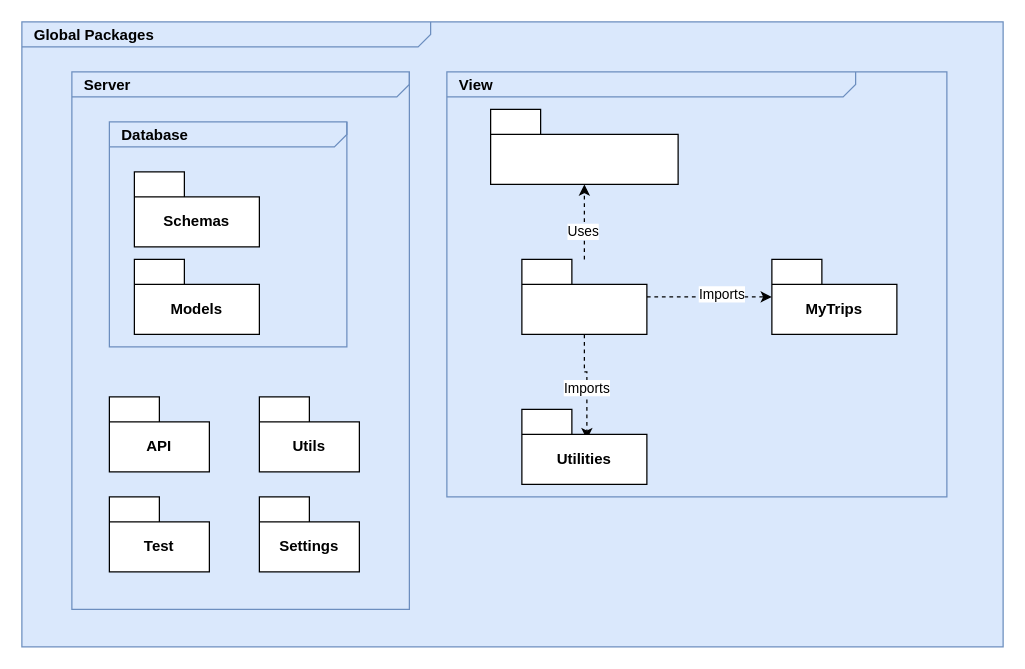
This 1025x669 diagram has some shape labels left out. Each missing label, with the centre of its shape:
"Destination UI" goes at (583,146).
"TravelMain UI" goes at (584,296).
